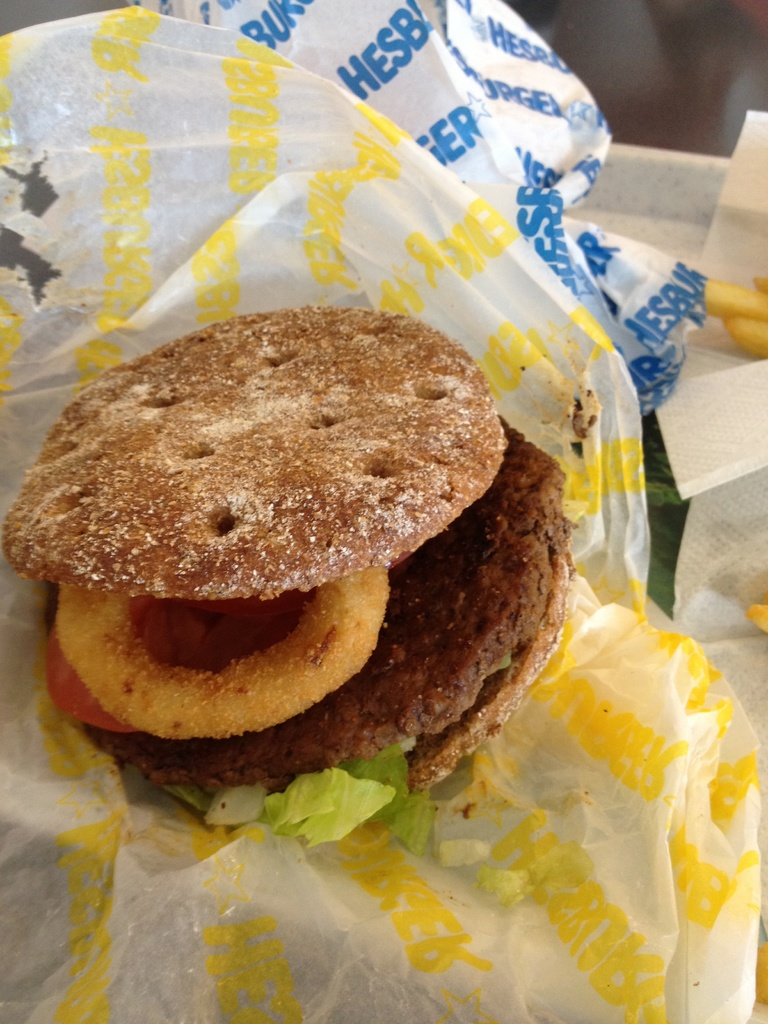Hamburger: (1, 308, 574, 850)
